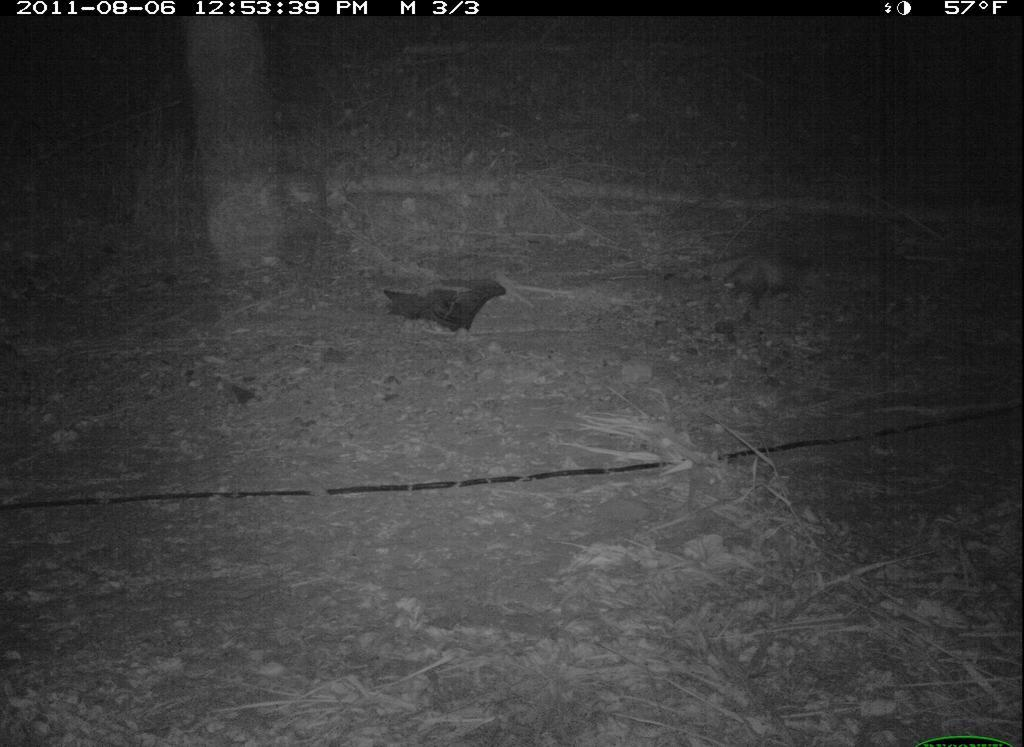opossum: (701, 231, 829, 318)
